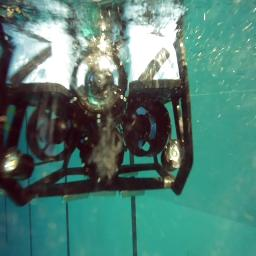front: (0, 39, 194, 208)
